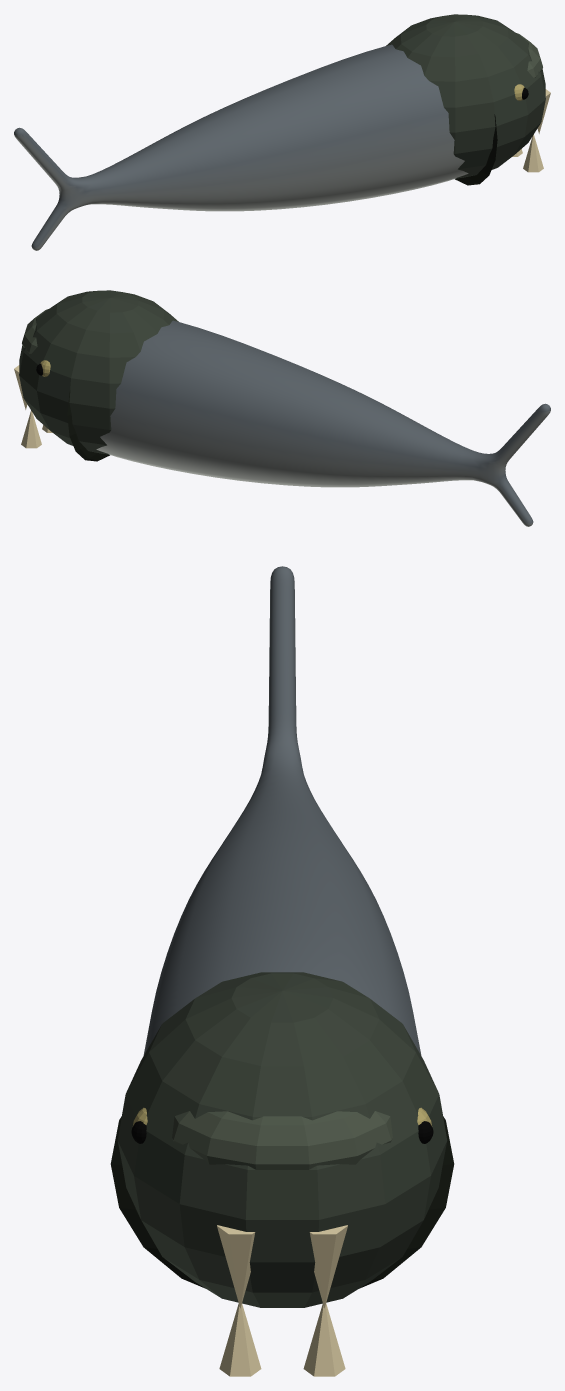
File: dunkleosteus.glb
3 renders of one model, top to bottom at view 1: azimuth 30°, elevation 25°; view 2: azimuth 150°, elevation 25°; view 3: azimuth 270°, elevation 25°, orthographic. The views are drawn at different scales.
Visible parts, largest first — view 1: corpo; view 2: corpo; view 3: corpo.
Part boxes in pixels (left/top/right/bottom): corpo: left=14, top=14, right=550, bottom=250; corpo: left=14, top=290, right=550, bottom=526; corpo: left=110, top=566, right=454, bottom=1376.
Bounding box in the file's own units: 4.59 × 1.74 × 1.79.
